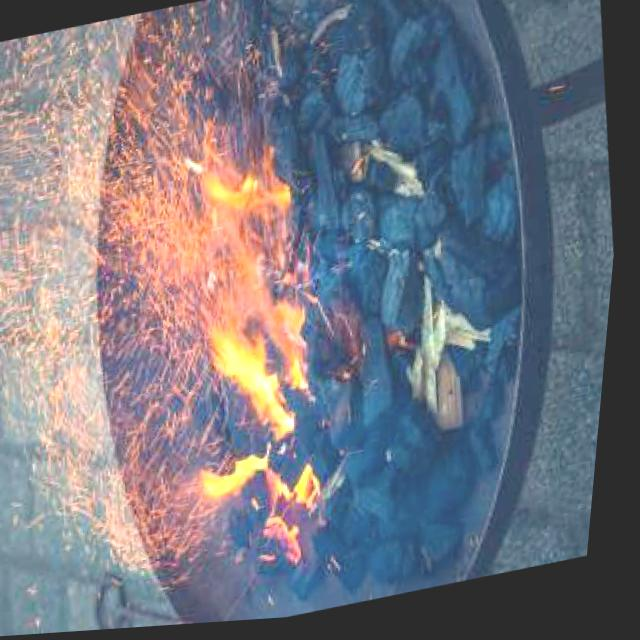Fire: (110, 90, 361, 542)
